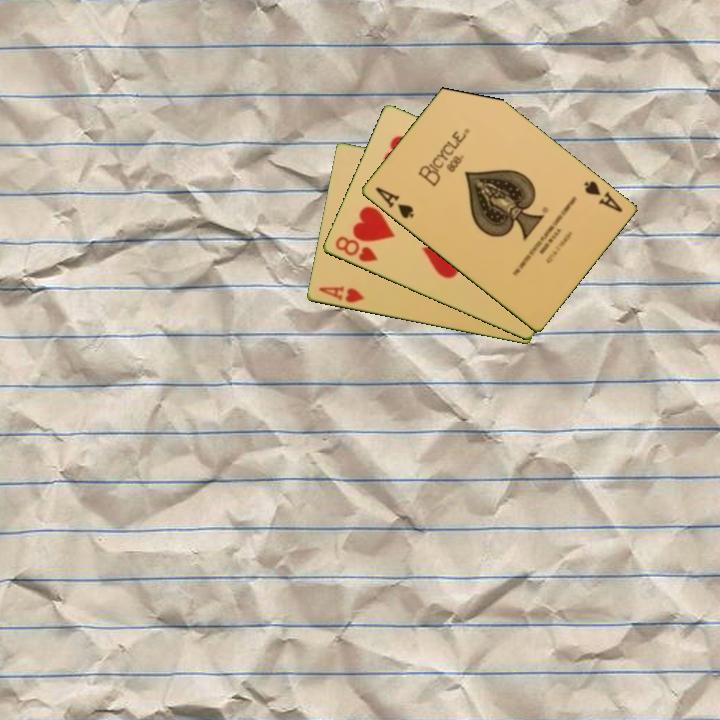8h: (331, 233, 380, 265)
Ah: (315, 283, 367, 306)
As: (371, 183, 417, 222), (580, 177, 625, 215)
